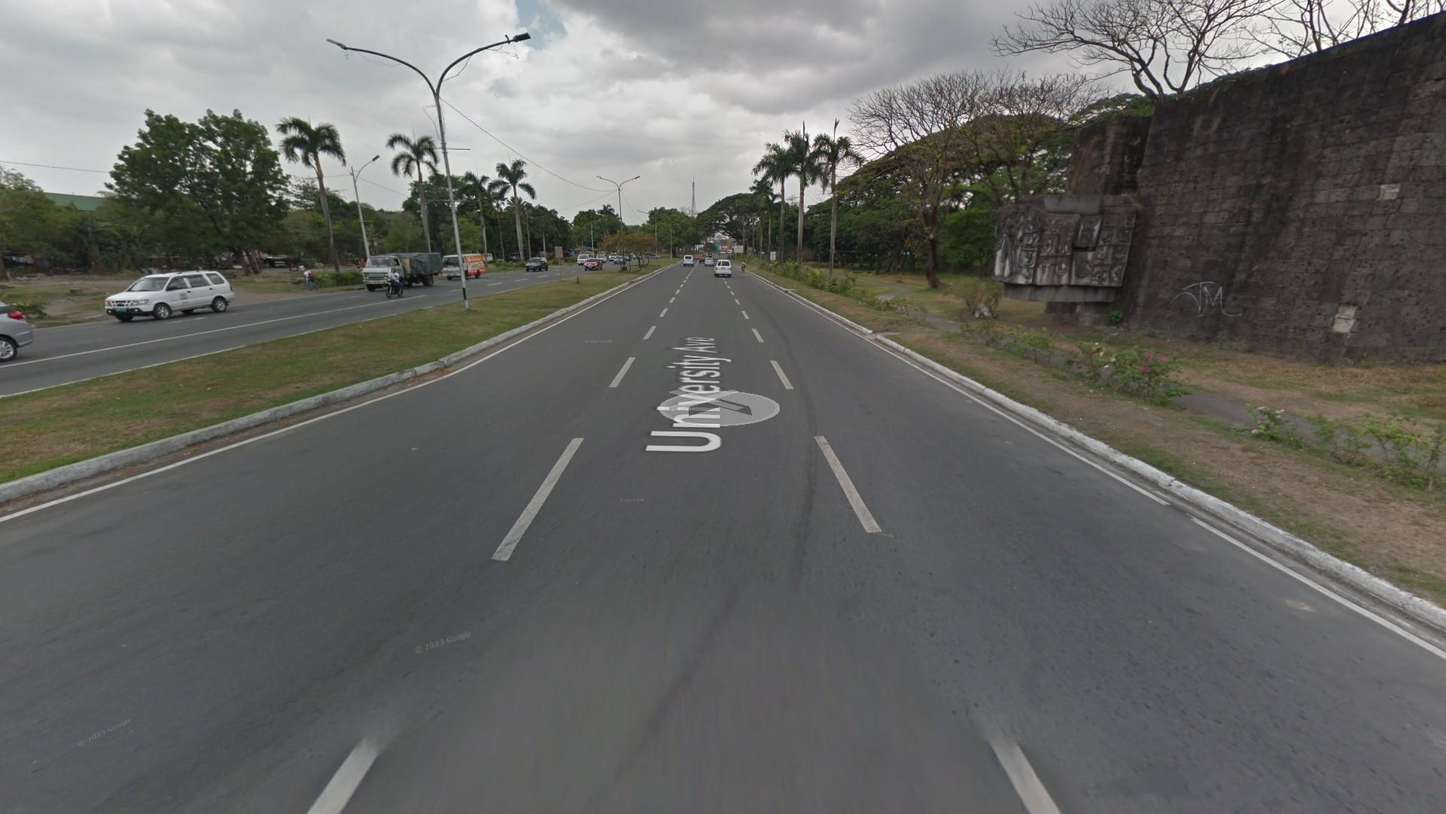cyclist: (740, 259, 746, 273)
pedestrian: (303, 266, 319, 292), (727, 252, 730, 259)
